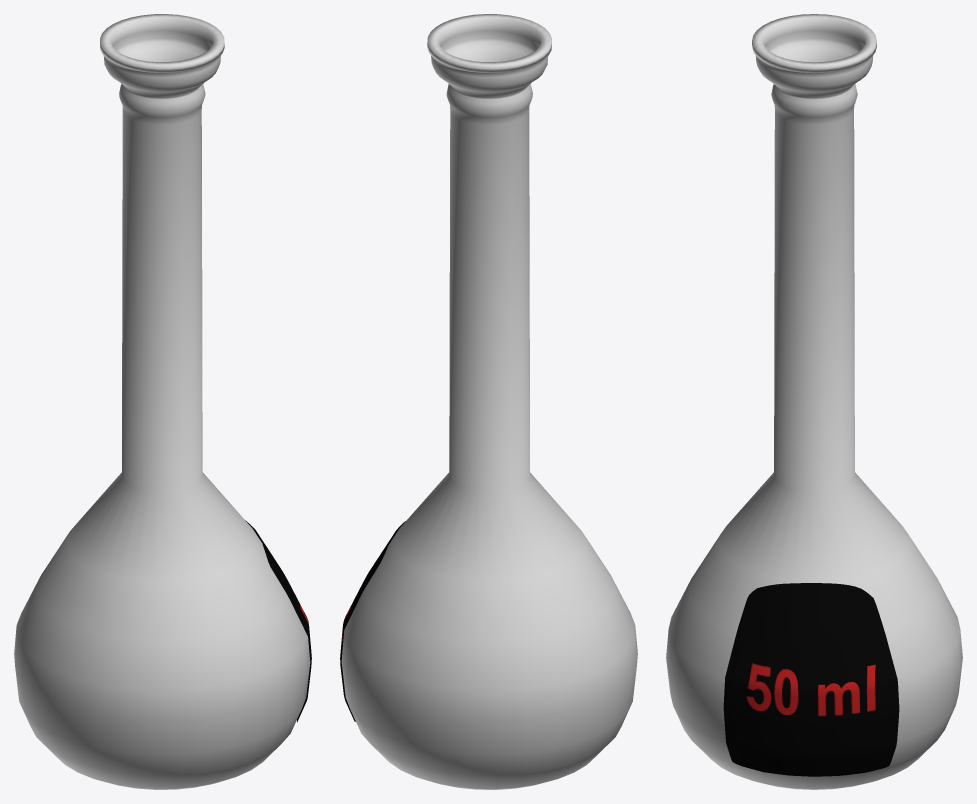
Rendered from alat_labuUkur_50ml_annisa_01.fbx.
3 renders of one model, left to right at view 1: azimuth 30°, elevation 25°; view 2: azimuth 150°, elevation 25°; view 3: azimuth 270°, elevation 25°, orthographic.
Visible parts, largest first — view 1: labuUkur_50ml; view 2: labuUkur_50ml; view 3: labuUkur_50ml.
Part boxes in pixels (x1,y1,x2,y2): labuUkur_50ml: (14, 14, 311, 789); labuUkur_50ml: (340, 14, 637, 789); labuUkur_50ml: (666, 14, 962, 789).
Size of the model in its own units: 7.47 by 19.6 by 7.44.
Materials: 2 (1 with a texture image).
